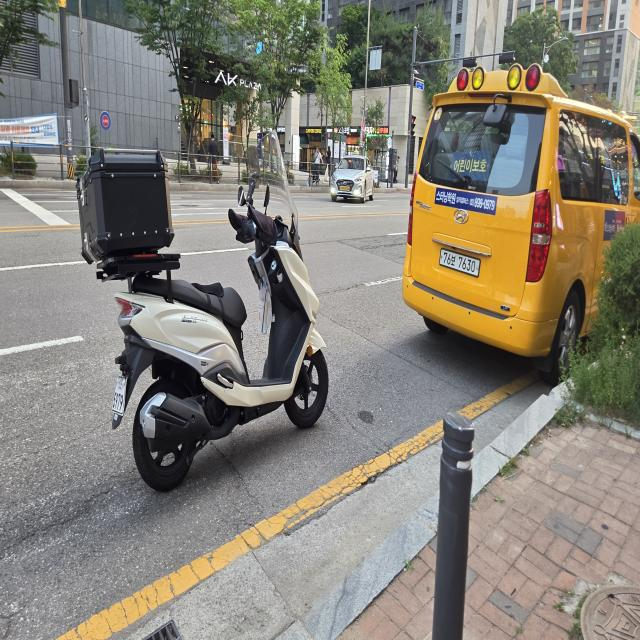car: (390, 32, 640, 380)
motorcycle: (67, 111, 347, 512)
